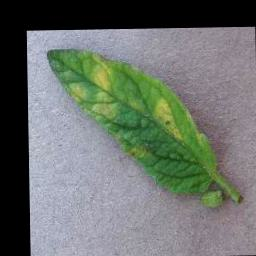Leaf_Mold: (66, 50, 122, 119), (154, 94, 184, 142), (126, 143, 153, 158)
